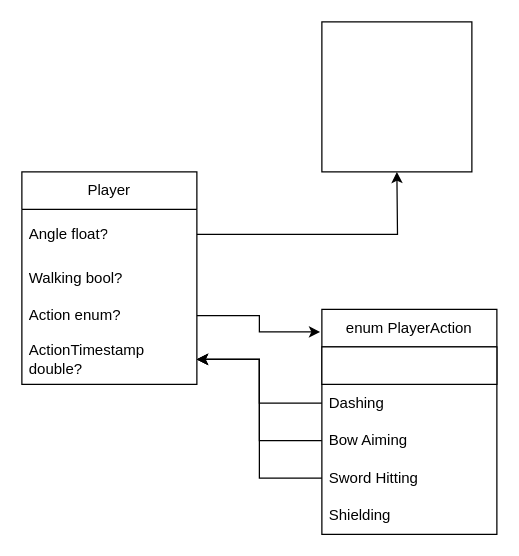
Some shapes in this 519 by 556 pixel diagram are drawn without their labels. The shapes that lost their labels are listed below. From the top down, each one's centre as x and y in pixels, then its label:
At point (396, 96): "Computed from last relevant inputs?".
At point (409, 365): "None".
